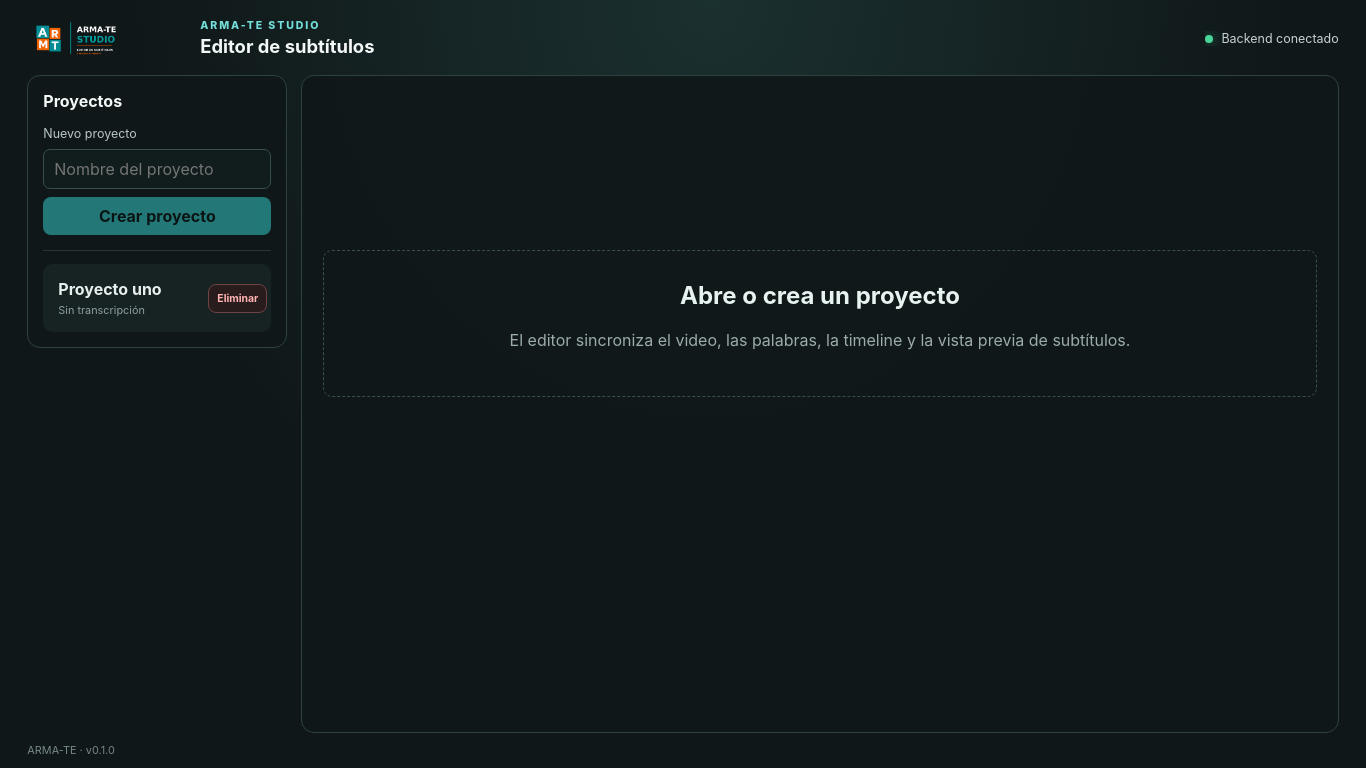
Test: application persistence boundaries › imports WAV audio into the open project and enables transcription without a video
Later steps or results of the test are not shown.
Check: the text "Backend conectado" is shown, box [1205,30,1339,46]
Click the button "Proyecto uno Sin transcripción". click: (126, 298)
box: [47,268,204,328]
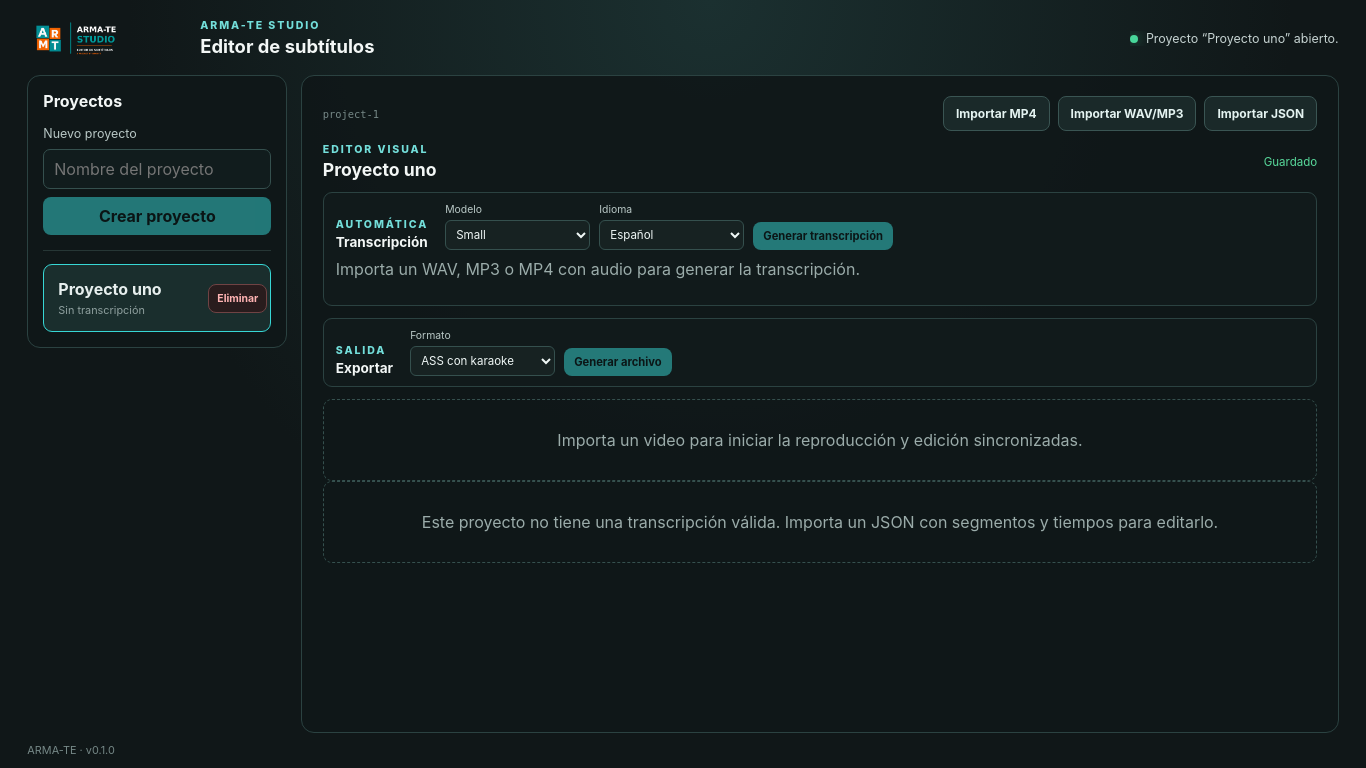
Check: the file field labelled "Importar WAV/MP3" is shown, box [1058,96,1196,132]
